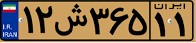character: (52, 3, 88, 38), (88, 4, 110, 37), (33, 3, 54, 37), (128, 6, 148, 37), (109, 4, 128, 35), (172, 11, 190, 38), (21, 3, 35, 37), (153, 10, 170, 38)
